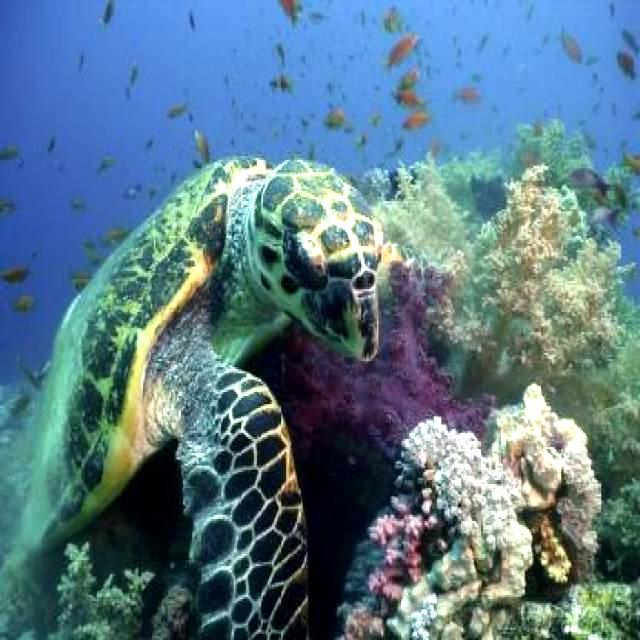Sea turtle: (8, 133, 390, 640)
